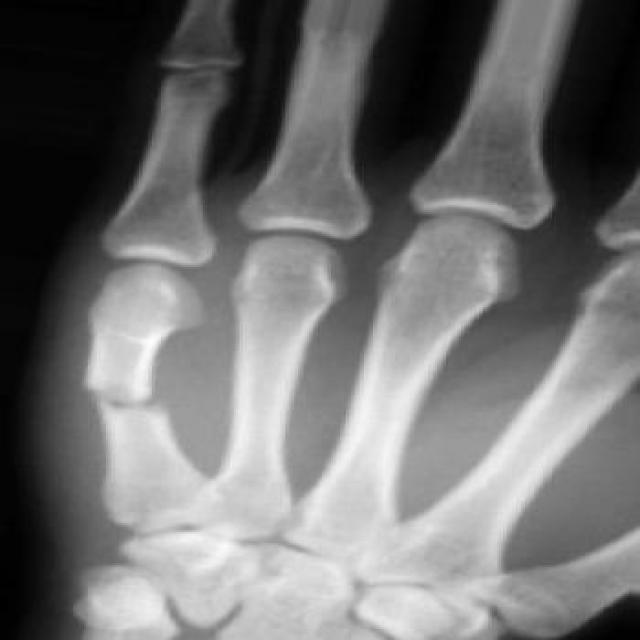Fracture: (72, 369, 188, 429)
